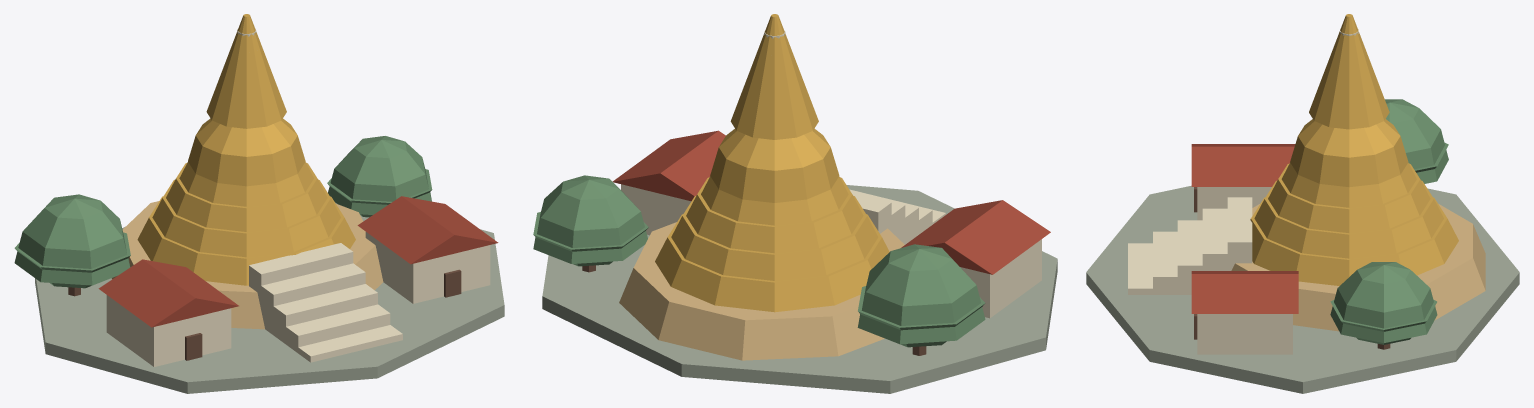
File: dagon.glb
3 views of the same model, side by side, from view 1: azimuth 30°, elevation 25°; view 2: azimuth 150°, elevation 25°; view 3: azimuth 270°, elevation 25° (orthographic). The views are drawn at different scales.
Visible parts, largest first — view 1: dagon_gold, dagon_stone, dagon_cream, dagon_foliage, dagon_roof_red, dagon_sandstone, dagon_dark_wood; view 2: dagon_gold, dagon_stone, dagon_foliage, dagon_sandstone, dagon_roof_red, dagon_cream; view 3: dagon_gold, dagon_stone, dagon_cream, dagon_foliage, dagon_roof_red, dagon_sandstone.
Part boxes in pixels (bbox=[...]): dagon_gold: bbox=[137, 14, 355, 285]; dagon_stone: bbox=[35, 202, 504, 393]; dagon_cream: bbox=[106, 29, 490, 366]; dagon_foliage: bbox=[14, 136, 432, 288]; dagon_roof_red: bbox=[98, 196, 498, 327]; dagon_sandstone: bbox=[111, 201, 383, 329]; dagon_dark_wood: bbox=[68, 269, 461, 360]; dagon_gold: bbox=[655, 14, 889, 312]; dagon_stone: bbox=[542, 185, 1057, 393]; dagon_foliage: bbox=[533, 175, 985, 347]; dagon_sandstone: bbox=[619, 222, 904, 360]; dagon_roof_red: bbox=[612, 130, 1050, 274]; dagon_cream: bbox=[621, 30, 1041, 318]; dagon_gold: bbox=[1250, 14, 1458, 285]; dagon_stone: bbox=[1086, 185, 1519, 393]; dagon_cream: bbox=[1128, 29, 1358, 354]; dagon_foliage: bbox=[1330, 99, 1448, 344]; dagon_roof_red: bbox=[1191, 144, 1298, 313]; dagon_sandstone: bbox=[1231, 204, 1485, 331].
Bounding box in the file's own units: 2.1 × 1.2 × 1.75.
